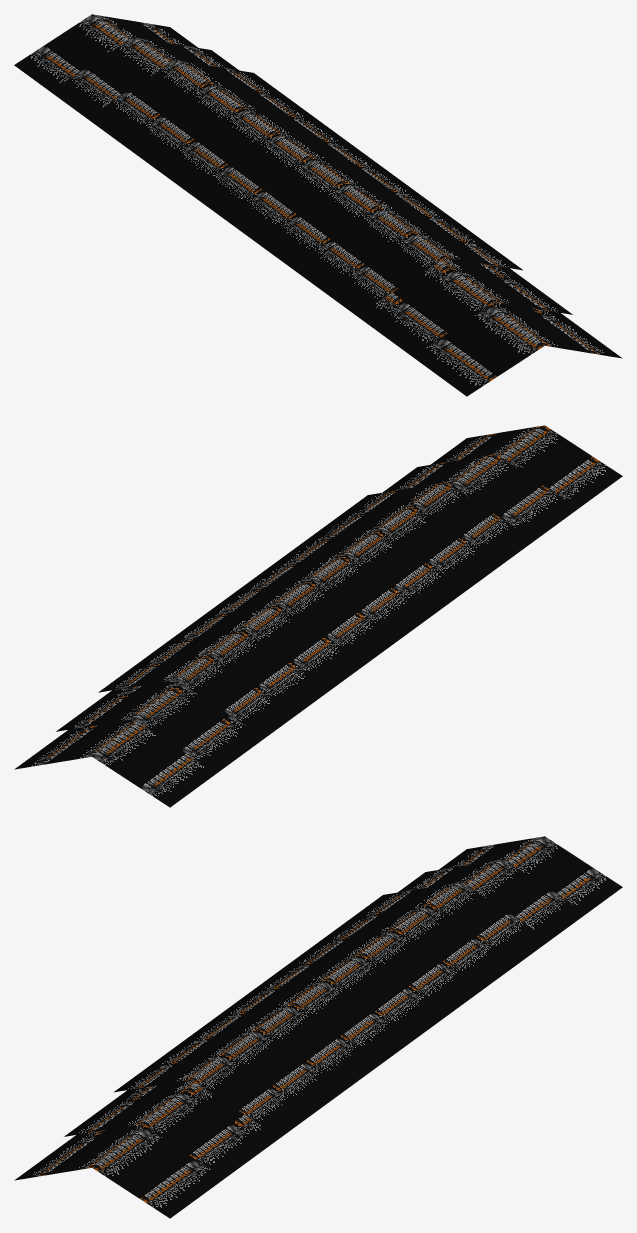
Rendered from 5040musi50.gltf.
The picture shows the model from 3 angles, top to bottom: view 1: azimuth 30°, elevation 25°; view 2: azimuth 150°, elevation 25°; view 3: azimuth 330°, elevation 25°; orthographic projection.
Visible parts, largest first — view 1: 5040musi50; view 2: 5040musi50; view 3: 5040musi50.
Boxes of the visible parts, x1,y1,x2,y2 form: 5040musi50: [14, 14, 622, 396]; 5040musi50: [14, 425, 622, 807]; 5040musi50: [14, 836, 622, 1218].
Size of the model in its own units: 0.0488 by 0.0142 by 0.2454.
3 materials, 3 textured.
